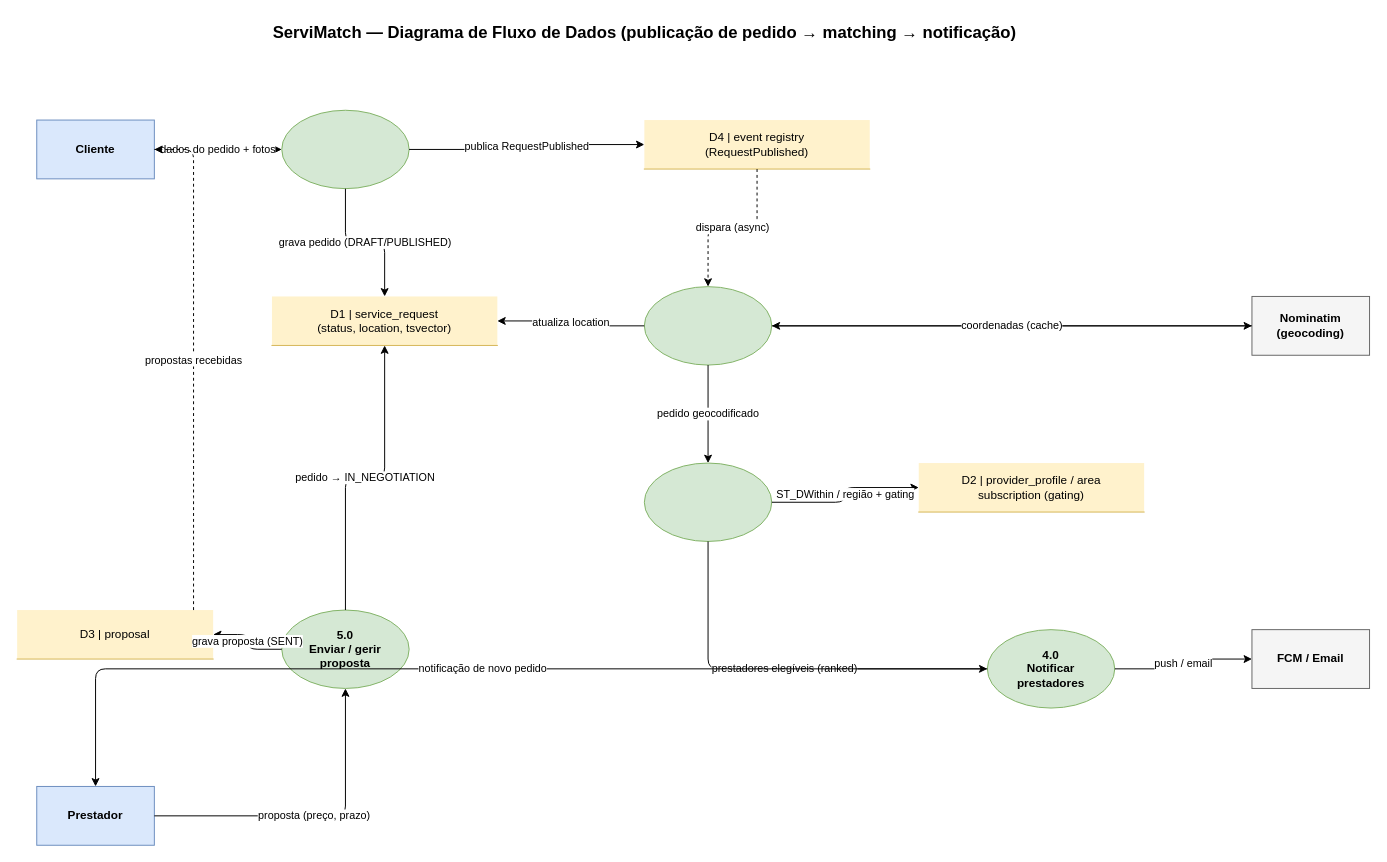
This 1387x862 diagram has some shape labels left out. The centre of each missing label's shape, as x and y in pixels:
1.0 Criar / Publicar pedido: (x=345, y=149)
2.0 Geocodificar morada (async): (x=707, y=325)
3.0 Matching (PostGIS + gating): (x=707, y=501)
